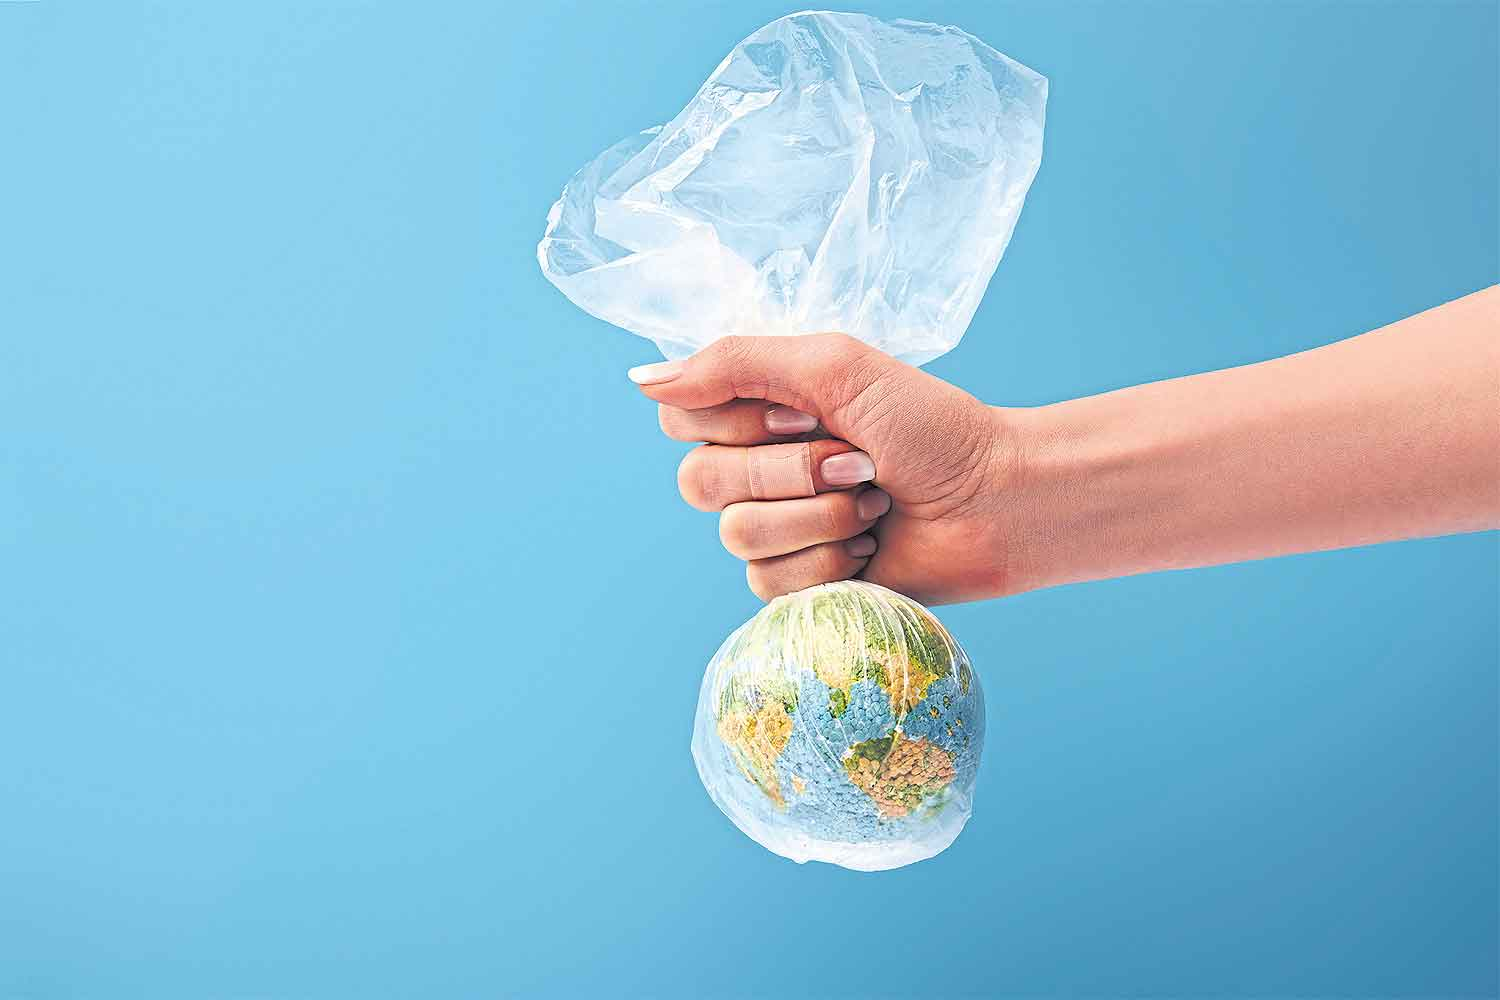plastic_bag: (527, 8, 1060, 900)
